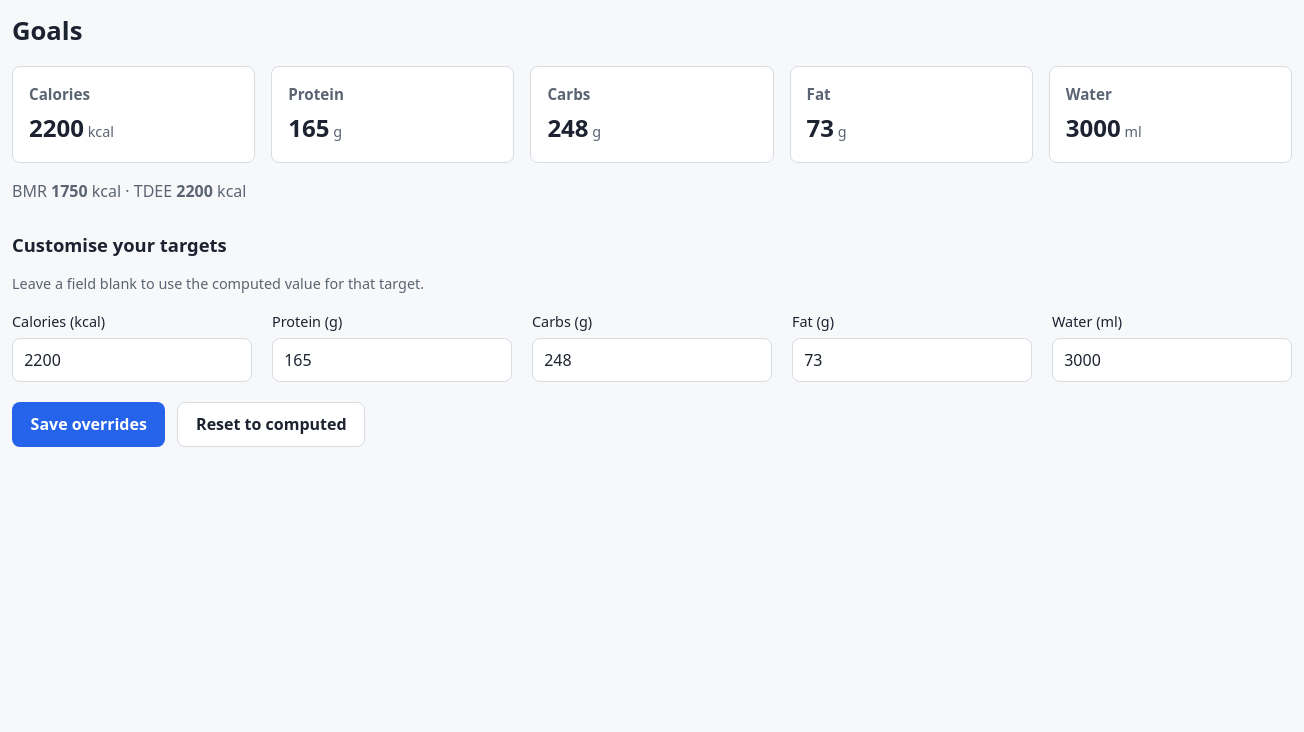
Scenario: GoalsPage › saves overrides and shows a confirmation
Replace the text in the number field labelled "Calories (kcal)" with "2500" at (132, 360), box [12,338,252,382]
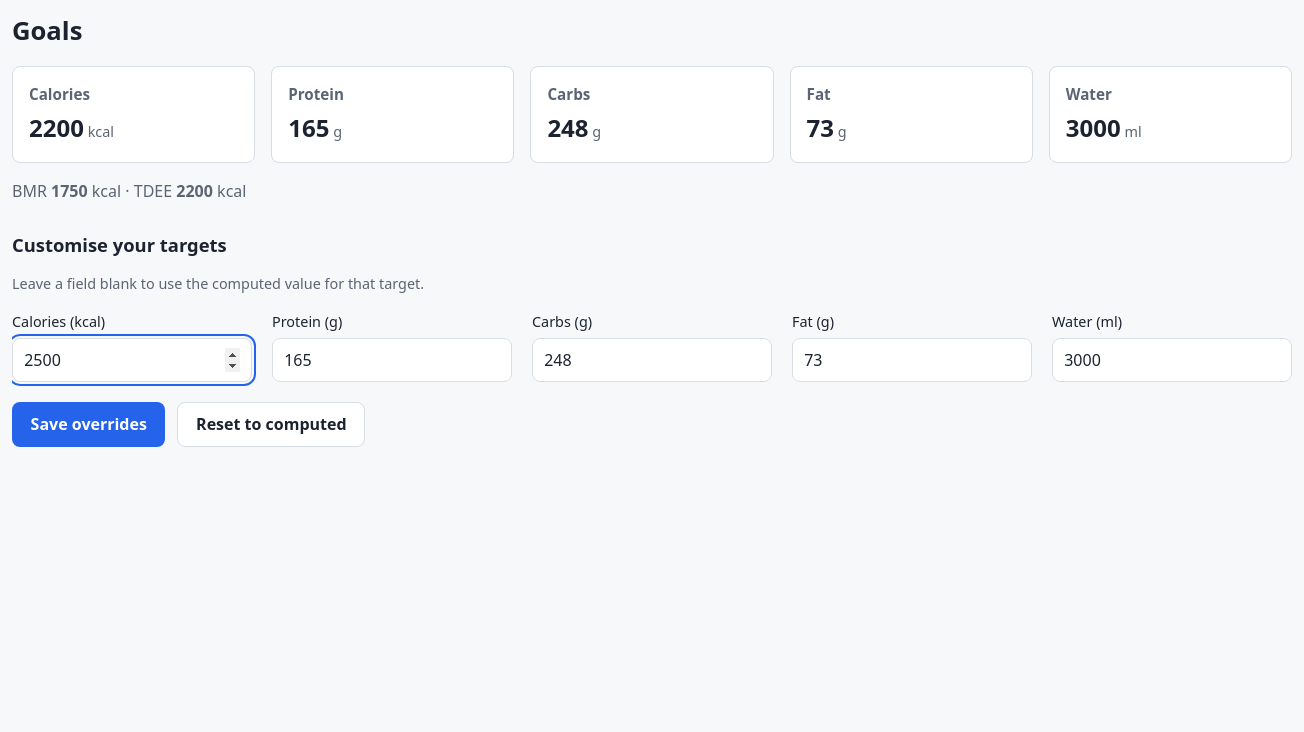
Click the button "Save overrides" at (89, 424), box [12,402,166,447]
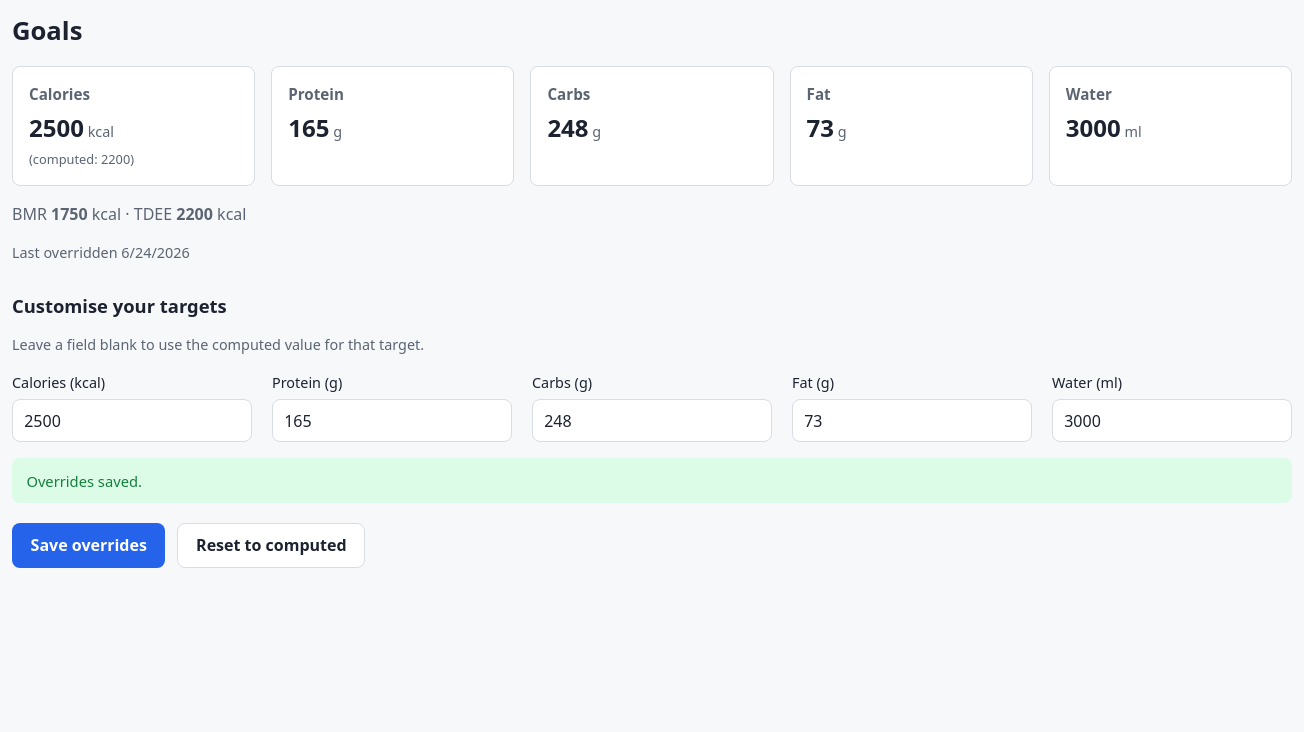
Expected: the text "Overrides saved." is shown, [12,458,1292,503]
